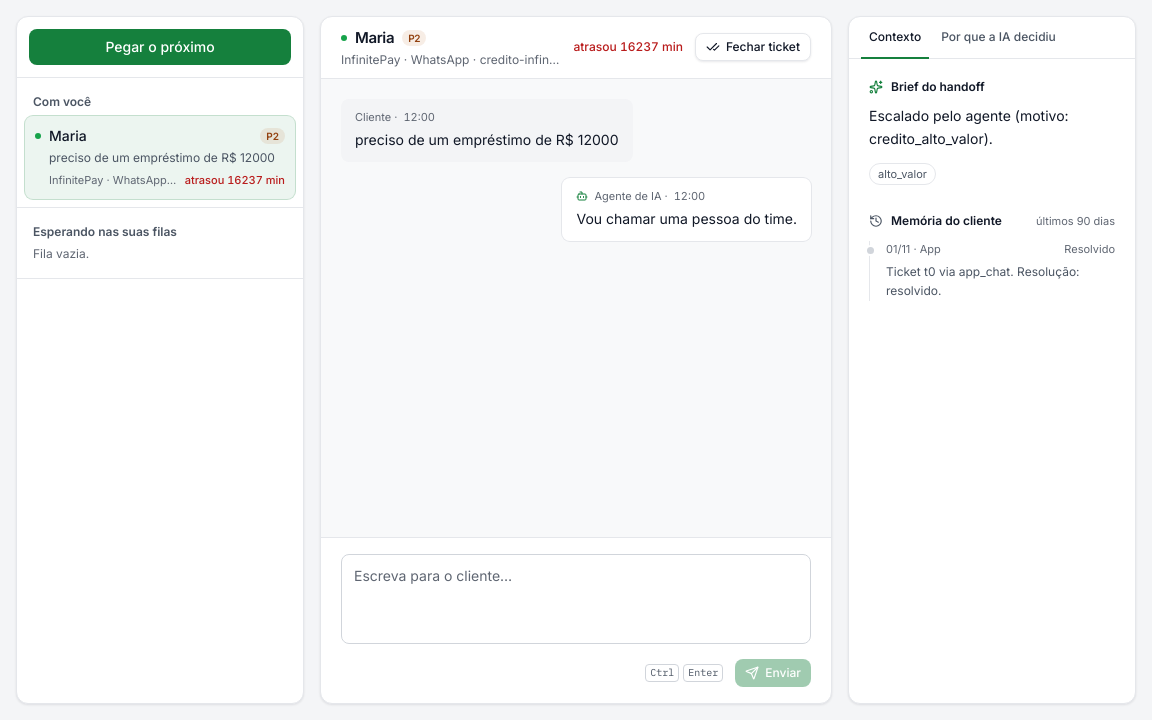
it: painel do analista › troca o painel lateral para a cadeia de decisão da IA
Click the tab "Por que a IA decidiu" at (998, 38), box [933,17,1064,59]
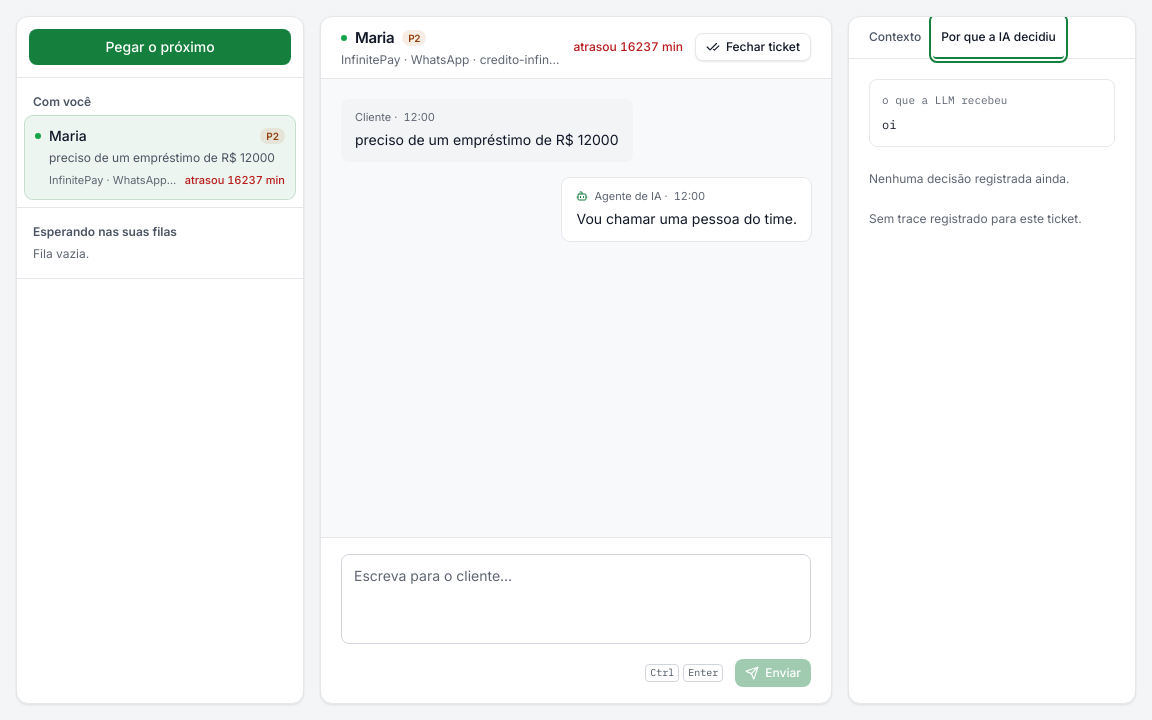
expect the element named "Texto que a LLM recebeu" is shown: met, box [869,79,1115,147]
